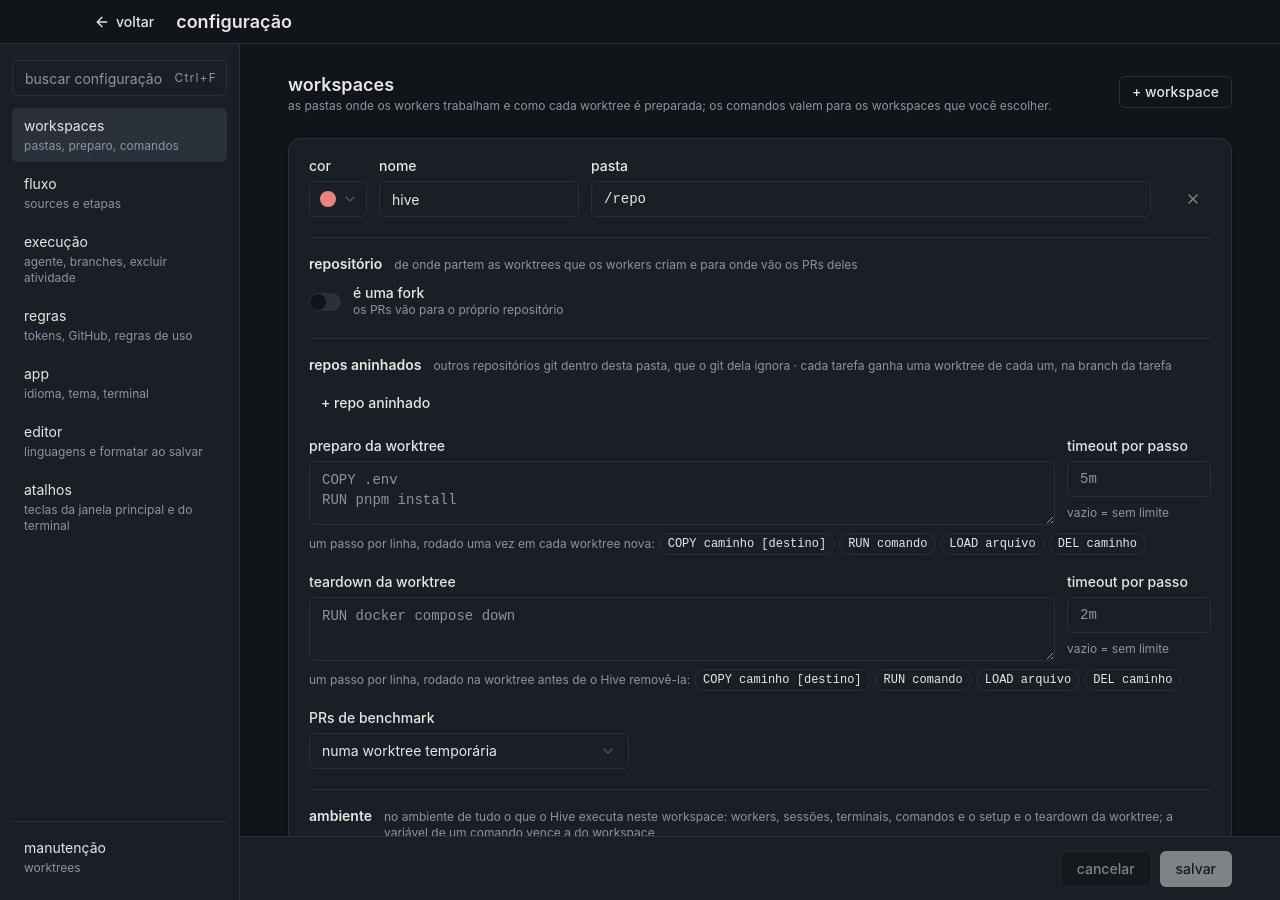
Test: a save whose stage has approval and a terminou exit is refused on the client: fluxo opens, the footer names the transition and its editor opens, again after a c
Step 1. Click the button "execução" → (120, 259), box [12,224,227,294]
(page scrolled)
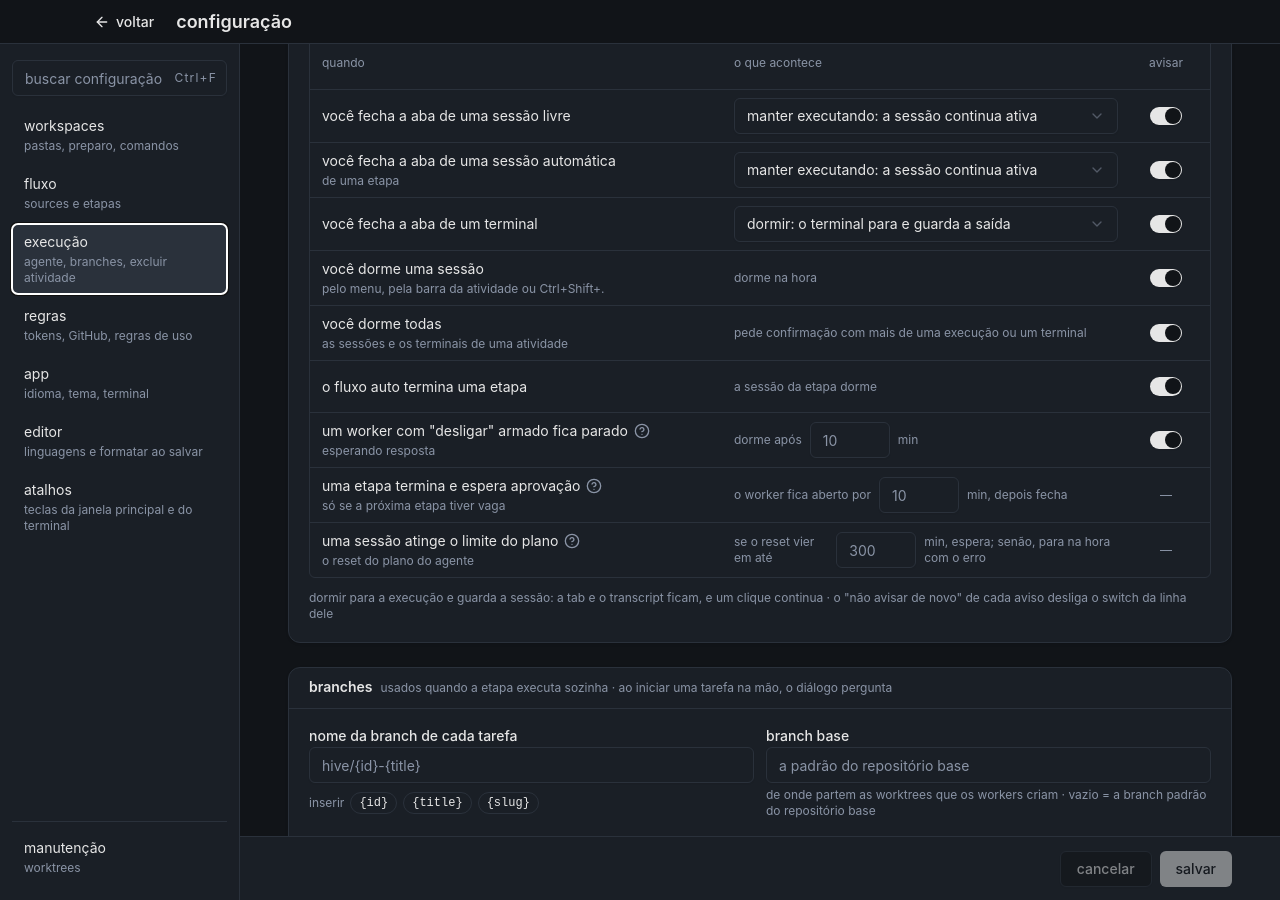
Step 2. Replace the text in the number field named "desligar worker parado após (min)" with "45" → (850, 440), box [810,422,890,458]
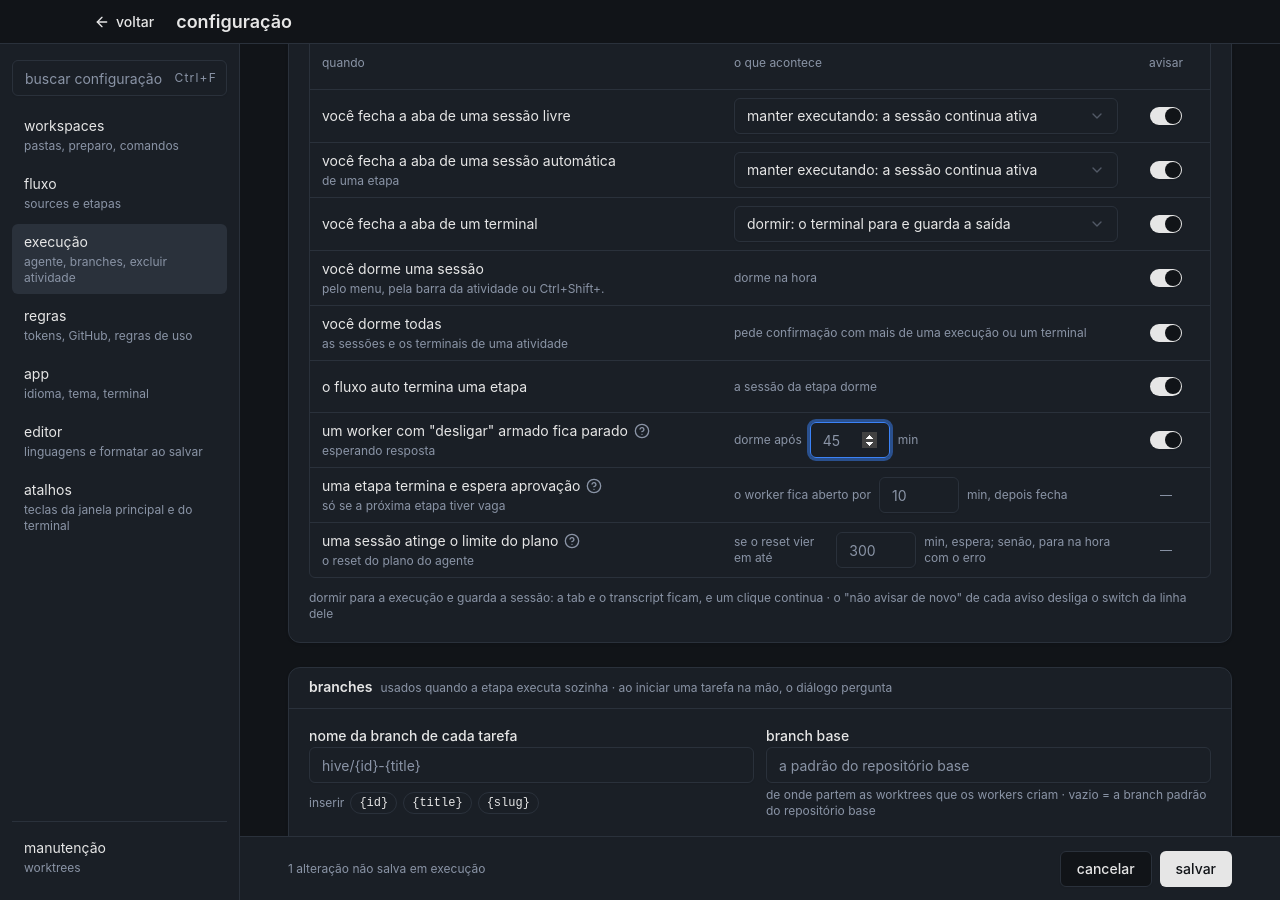
Step 3. Click the button "salvar" → (1196, 868), box [1160,850,1232,886]
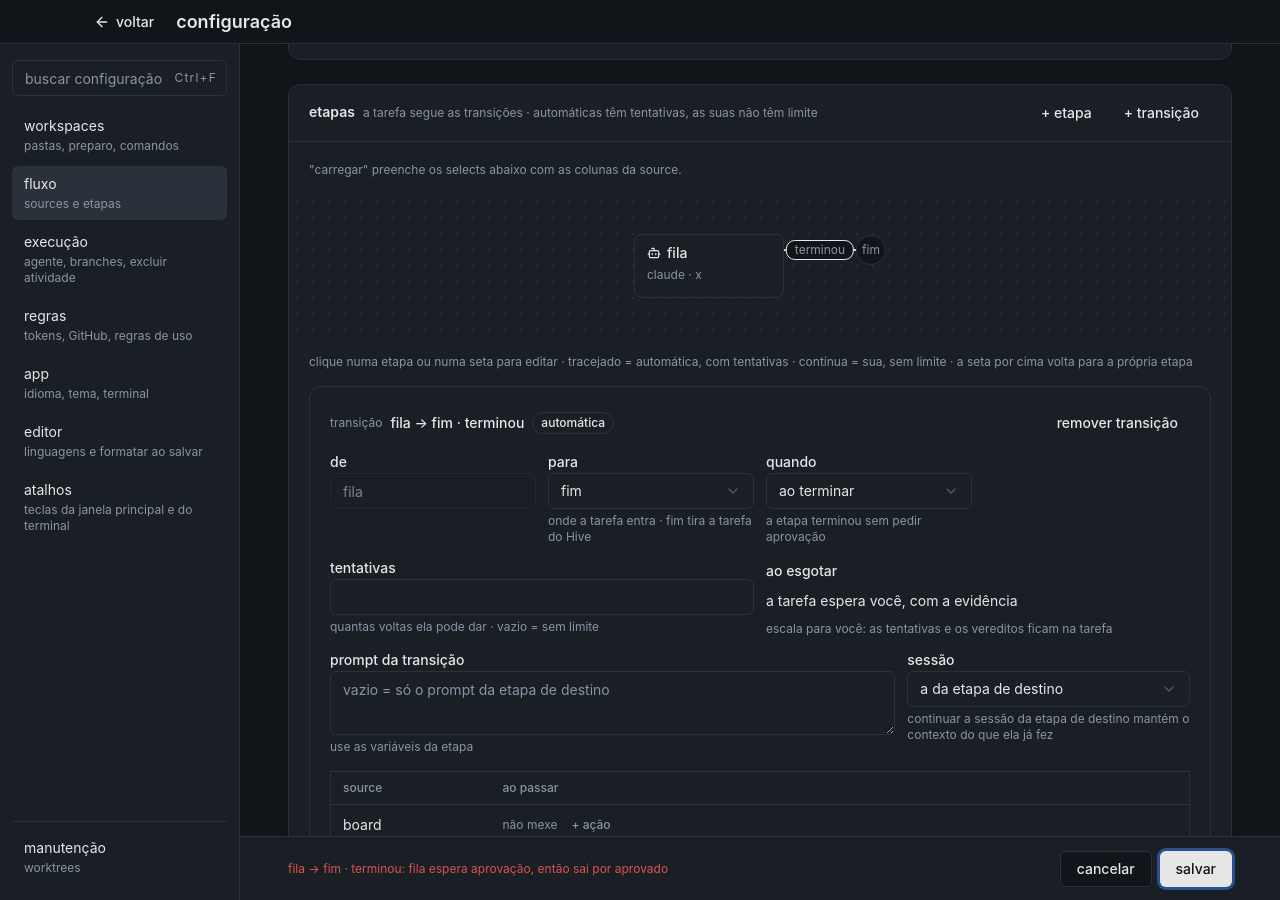
Check: the footer is shown, box [240,836,1279,899]
Check: the element "fila → fim · terminou" is shown, box [309,386,1211,836]
Step 4. Click the button "fila claude · x" → (709, 266), box [634,234,784,298]
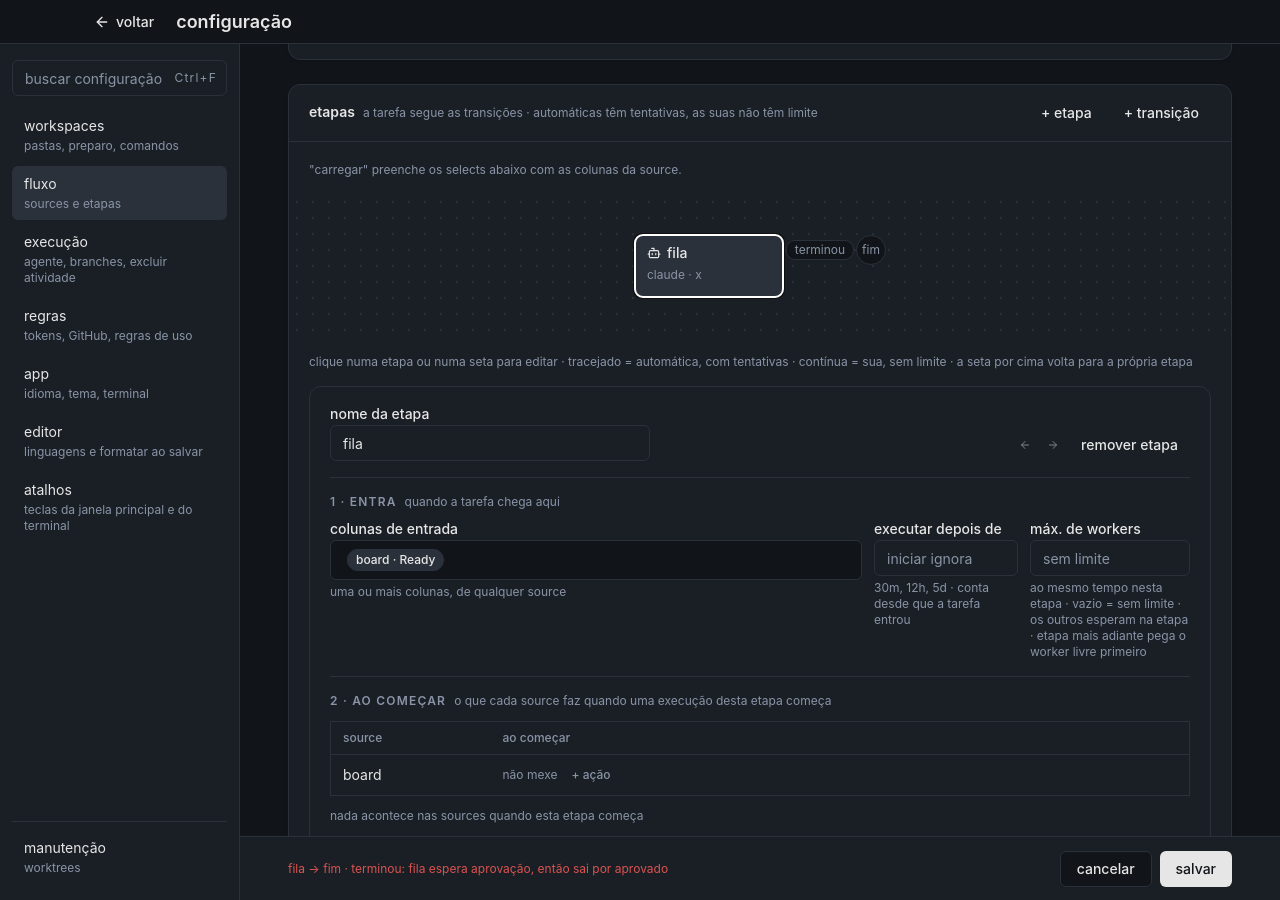
Step 5. Click the button "salvar" → (1196, 868), box [1160,850,1232,886]
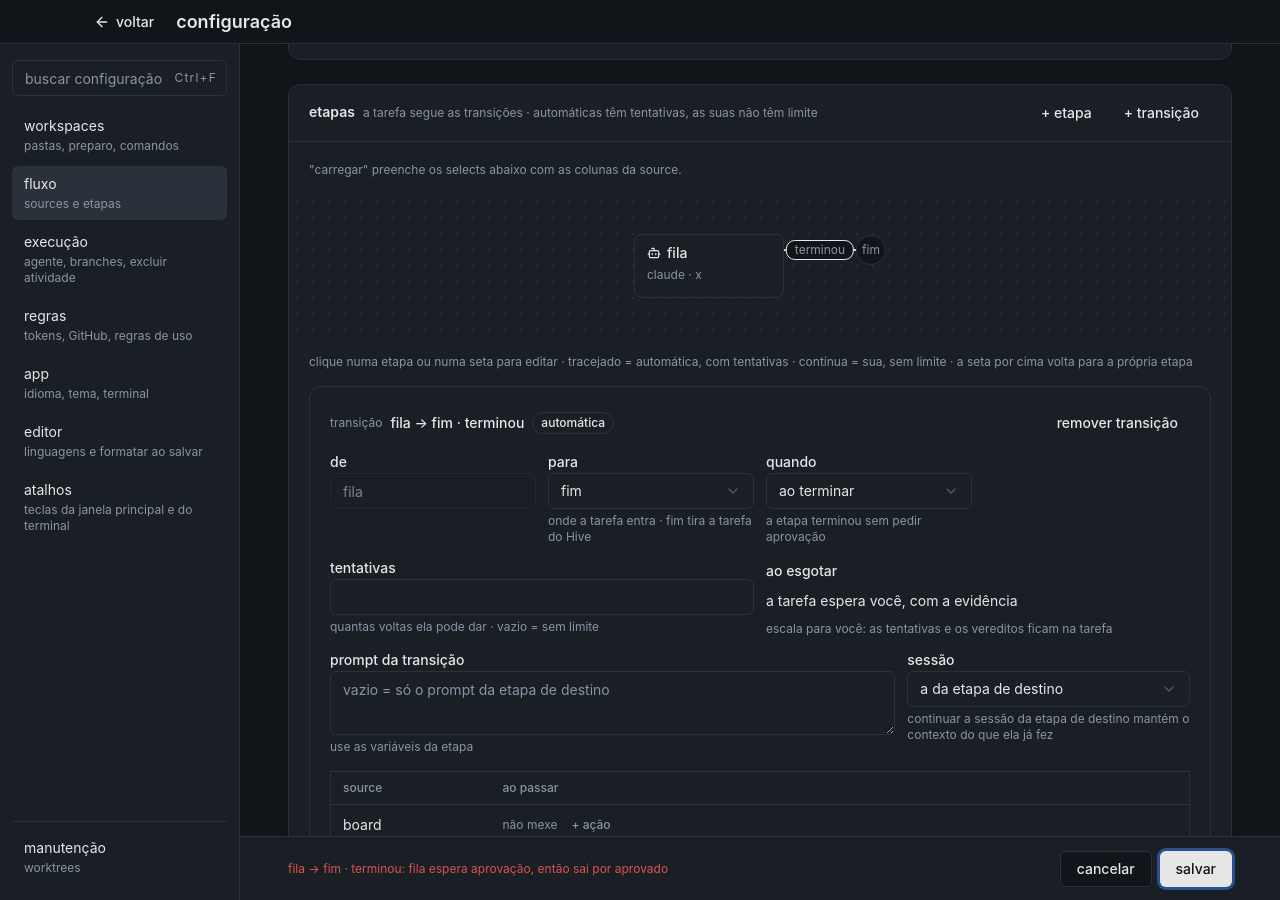
Check: the element "fila → fim · terminou" is shown, box [309,386,1211,836]
